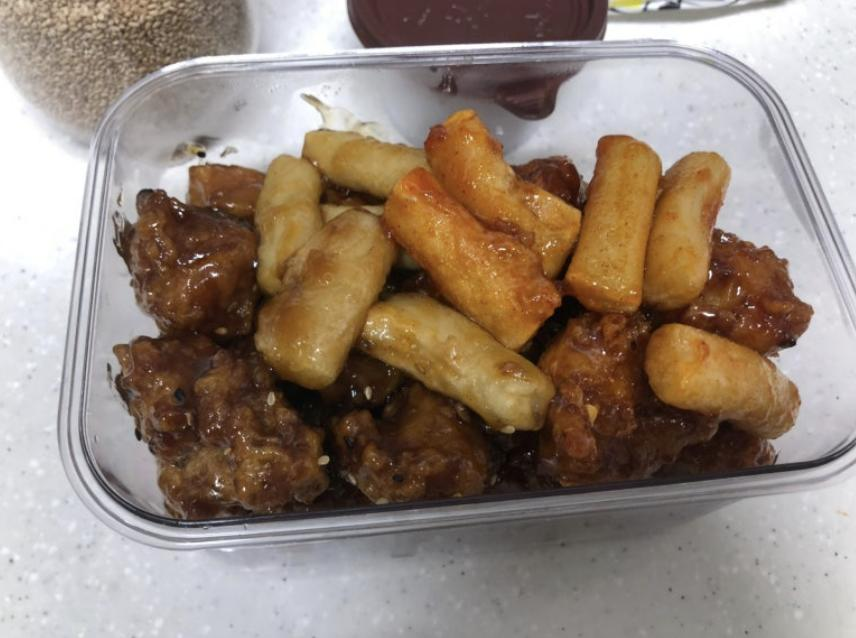Lunch Box: (59, 42, 855, 548)
